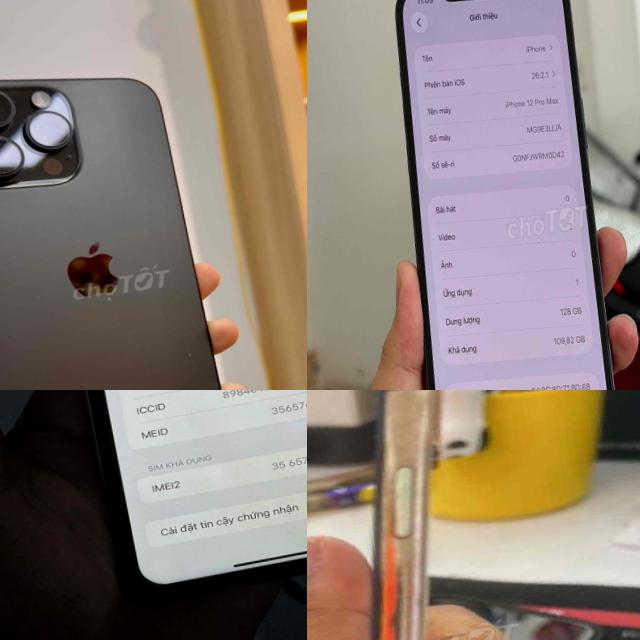scratch: (174, 335, 212, 370), (0, 115, 18, 133), (0, 129, 9, 146)
